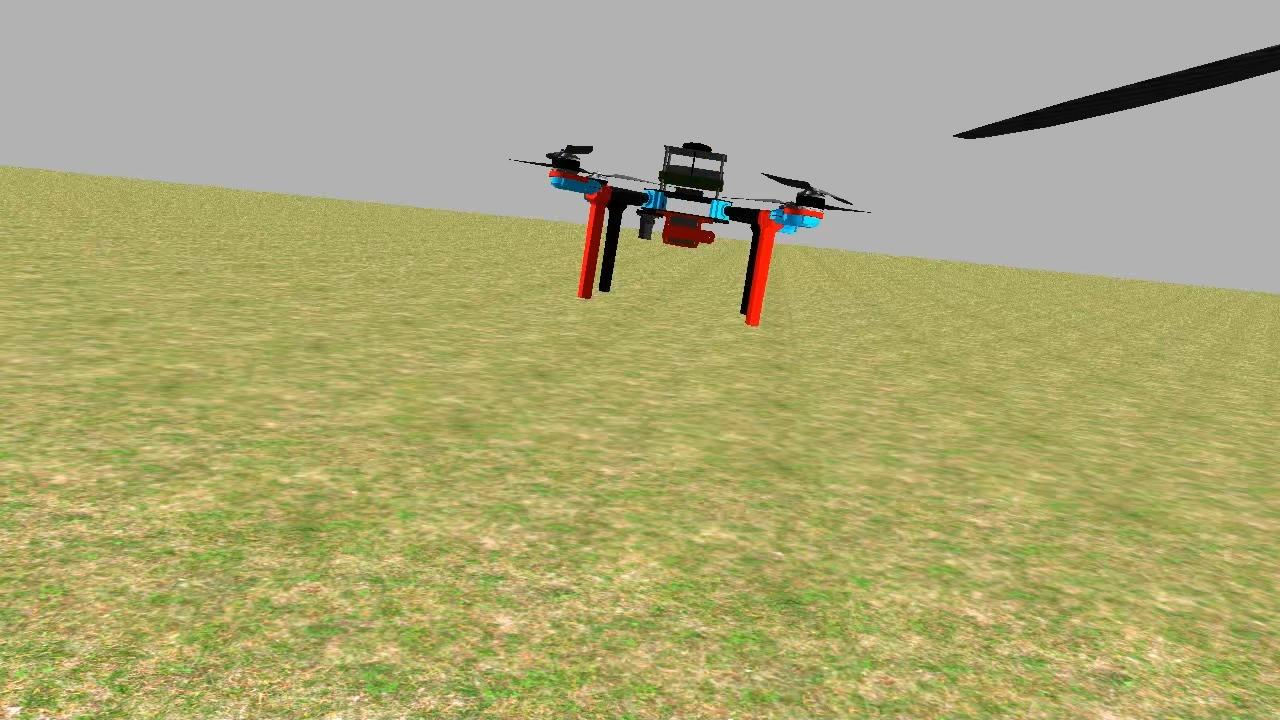UAV: (496, 123, 850, 336)
